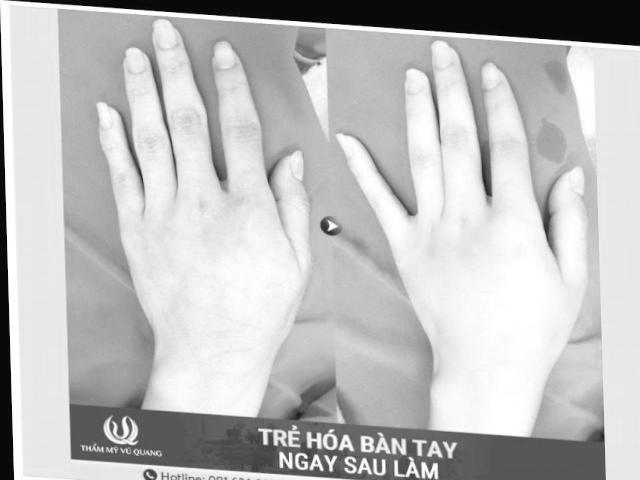not-gloved: (342, 43, 590, 352), (96, 21, 314, 356)
